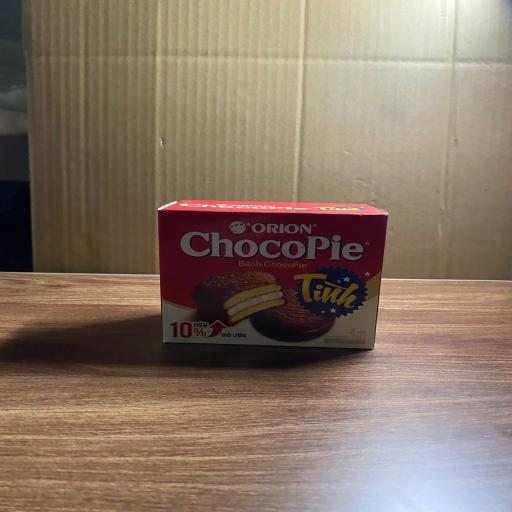chocopie: (159, 201, 389, 350)
